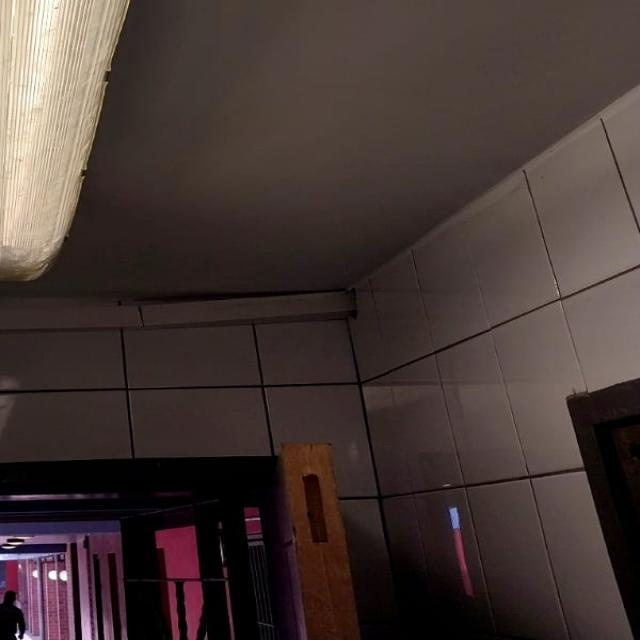fluorescent tube: (0, 0, 261, 340)
